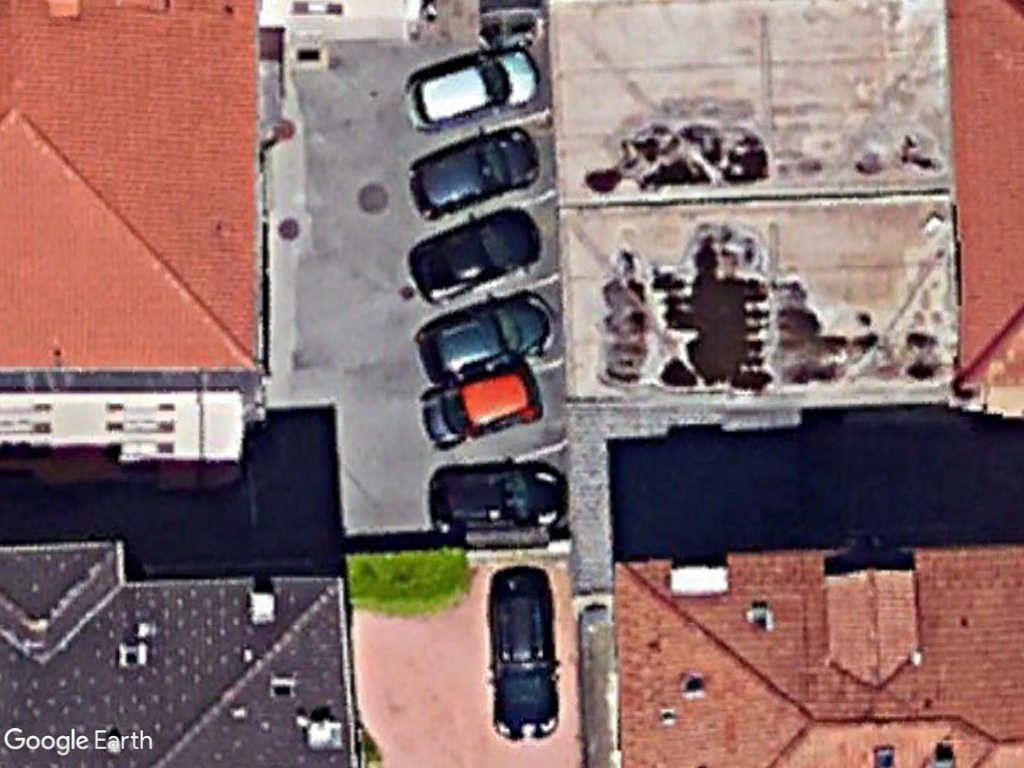car: (407, 205, 547, 307), (486, 572, 564, 746), (406, 125, 543, 224), (414, 291, 554, 386), (400, 47, 542, 138), (424, 460, 570, 540), (416, 367, 544, 449)
